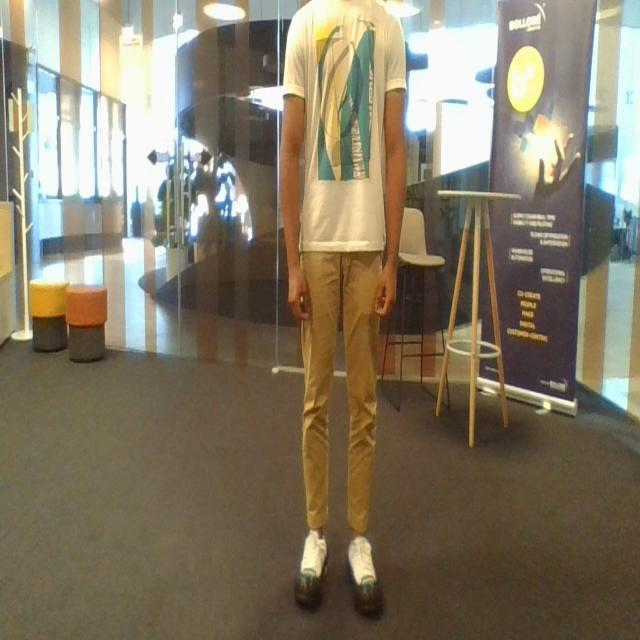shoes: (290, 526, 336, 612), (346, 530, 388, 623)
